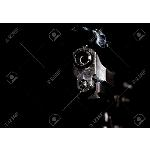Pistol: (70, 43, 138, 111)
